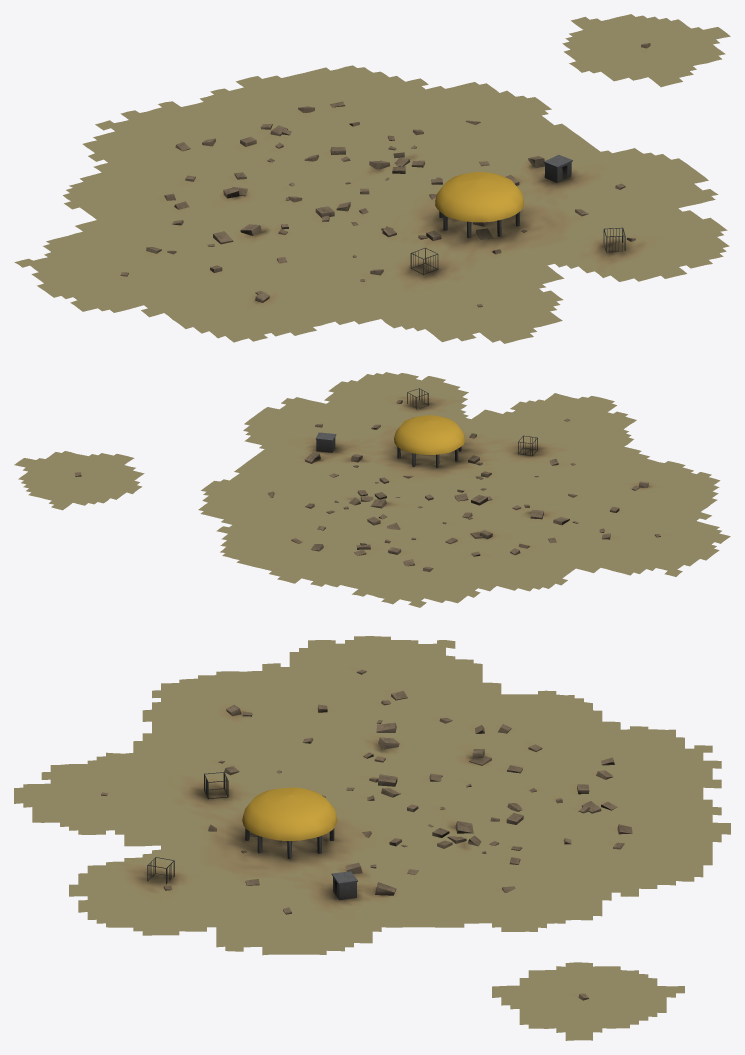
3 views of the same model, one above another, from view 1: azimuth 30°, elevation 25°; view 2: azimuth 150°, elevation 25°; view 3: azimuth 270°, elevation 25° (orthographic). The views are drawn at different scales.
Visible parts, largest first — view 1: sediment, reef, saucer_hangar, tool_shed, fish_pens; view 2: sediment, reef, saucer_hangar; view 3: sediment, reef, saucer_hangar.
Part boxes in pixels (<box>): sediment: <box>14,14,730,343</box>; reef: <box>120,43,650,307</box>; saucer_hangar: <box>435,172,523,238</box>; tool_shed: <box>543,155,572,182</box>; fish_pens: <box>410,227,625,274</box>; sediment: <box>14,372,730,607</box>; reef: <box>75,400,660,571</box>; saucer_hangar: <box>394,415,464,468</box>; sediment: <box>14,636,730,1040</box>; reef: <box>101,669,632,1000</box>; saucer_hangar: <box>242,787,337,858</box>.
Size of the model in its own units: 104 by 6.12 by 78.
4 materials, 2 textured.
